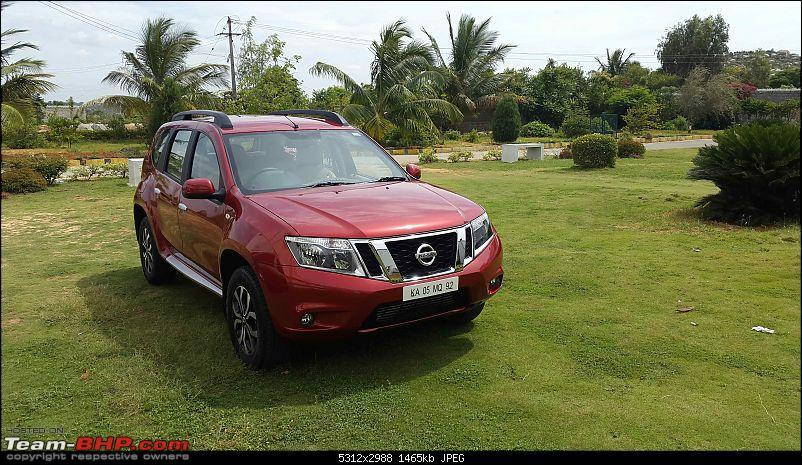License-Plate: (398, 276, 466, 302)
